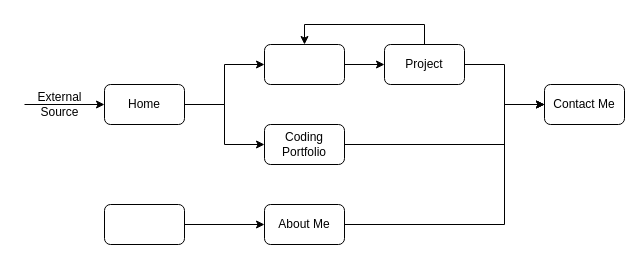
Image size: 642x262. Some labels were removed from this diagram. Here are the shapes that lost their labels. From the top down, the box of each, then its label:
(264, 44, 344, 84): VFX Portfolio
(104, 204, 184, 244): Any page
